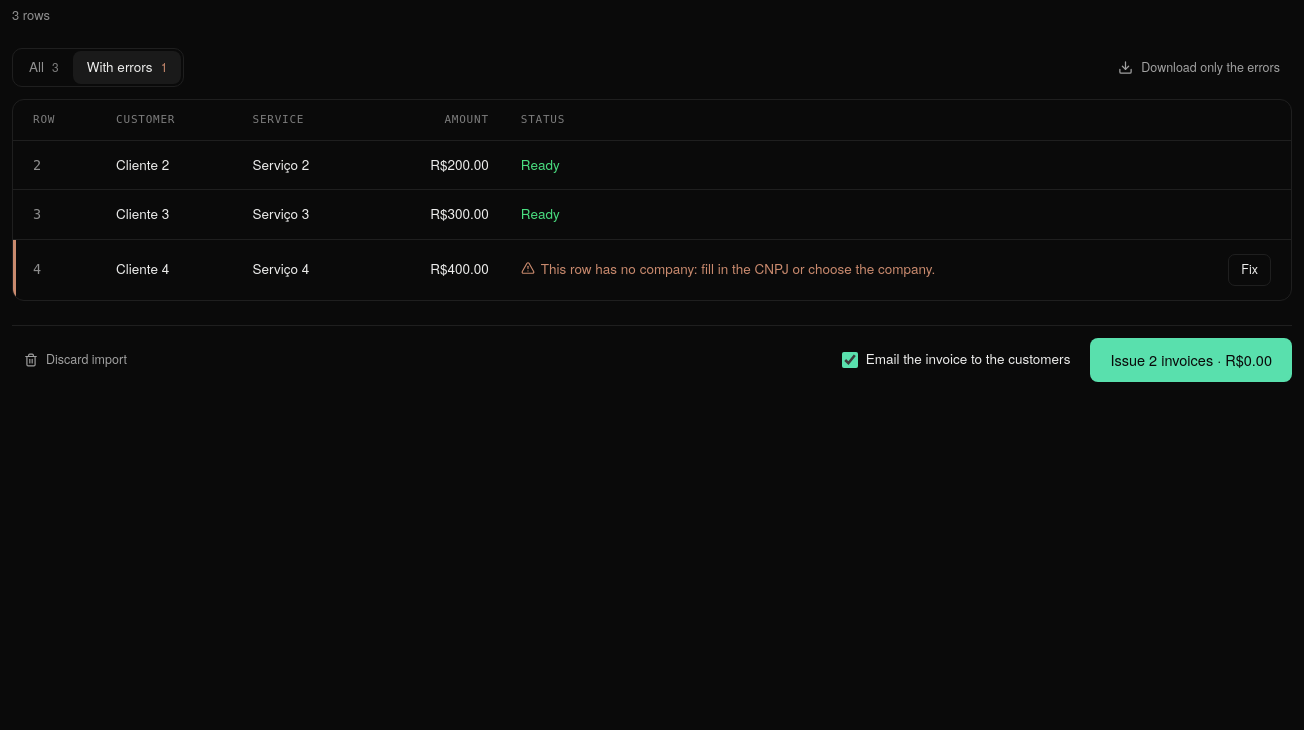
Test case: ImportReview › explains an edit refused because the import already moved on
Click the button "Fix" at [1250, 270], box x1=1228 y1=254 x2=1271 y2=286
(page scrolled)
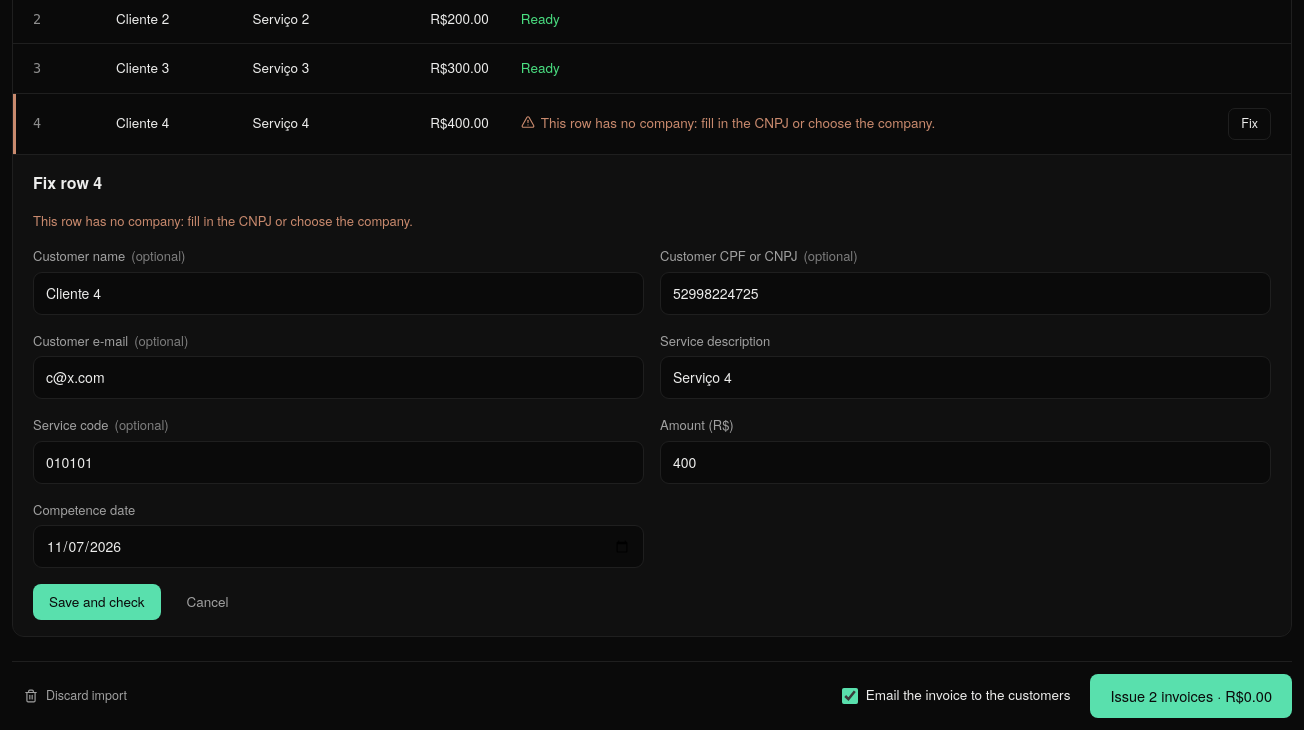
Click the button "Save and check" at [97, 602], box x1=33 y1=584 x2=161 y2=620
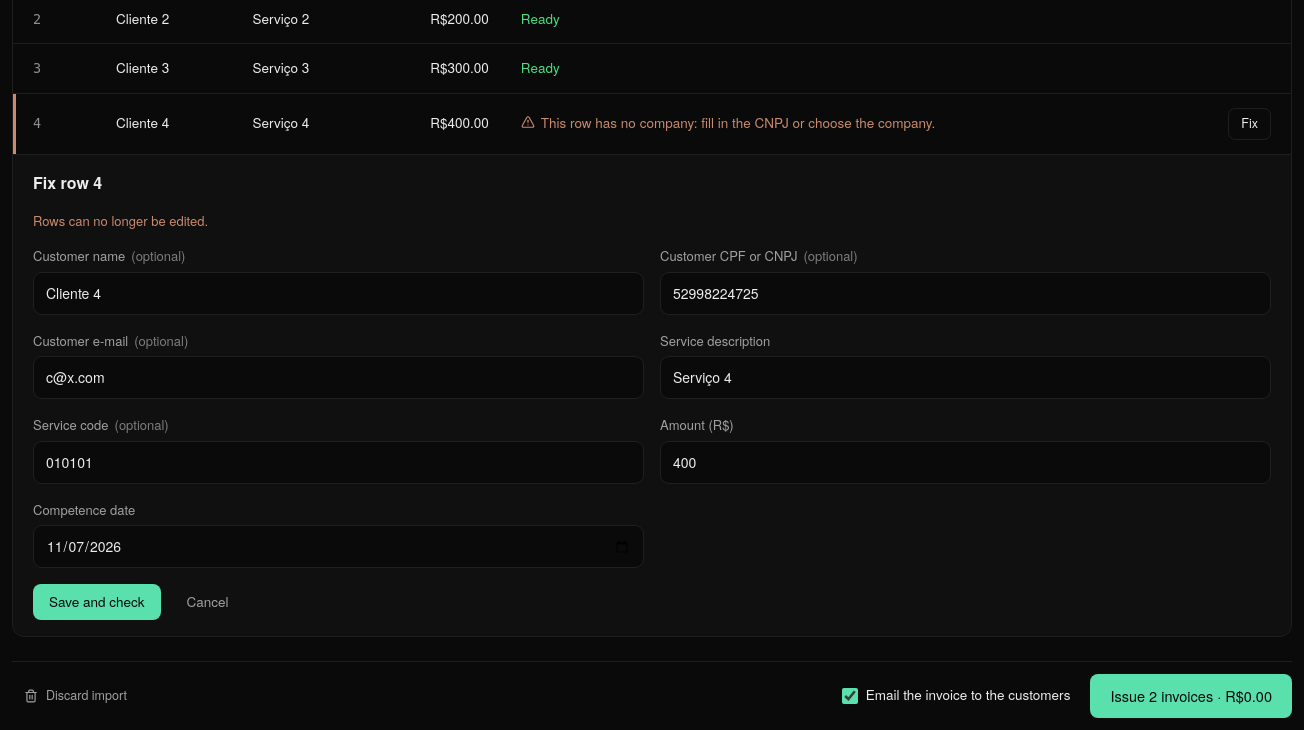
Check: the message shows "can no longer be edited", box x1=33 y1=210 x2=208 y2=230
